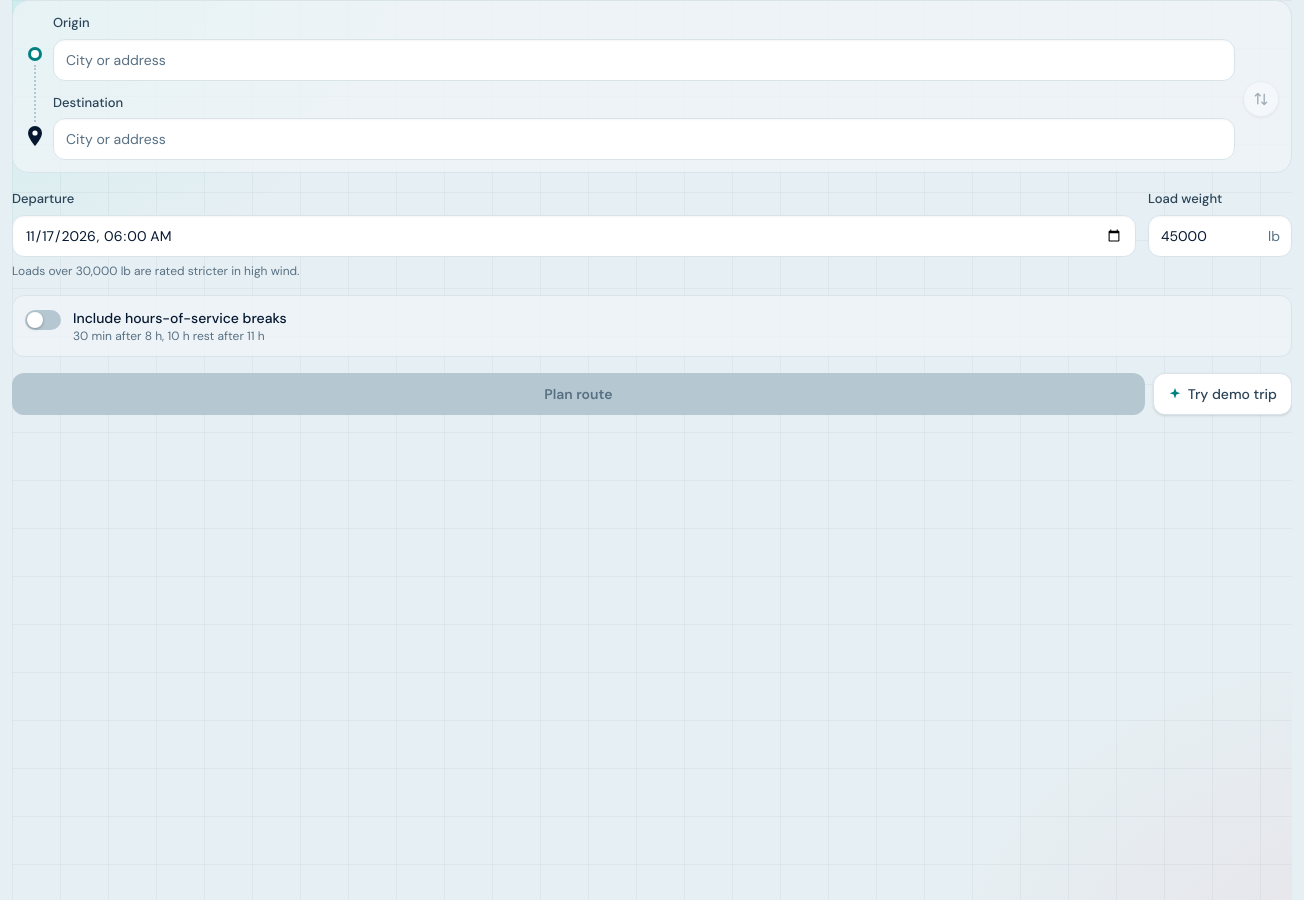
it: shows "No matches" when geocoding finds nothing
Type "Atlantis" into the dropdown labelled "Origin" at (644, 60), box [53,38,1235,80]
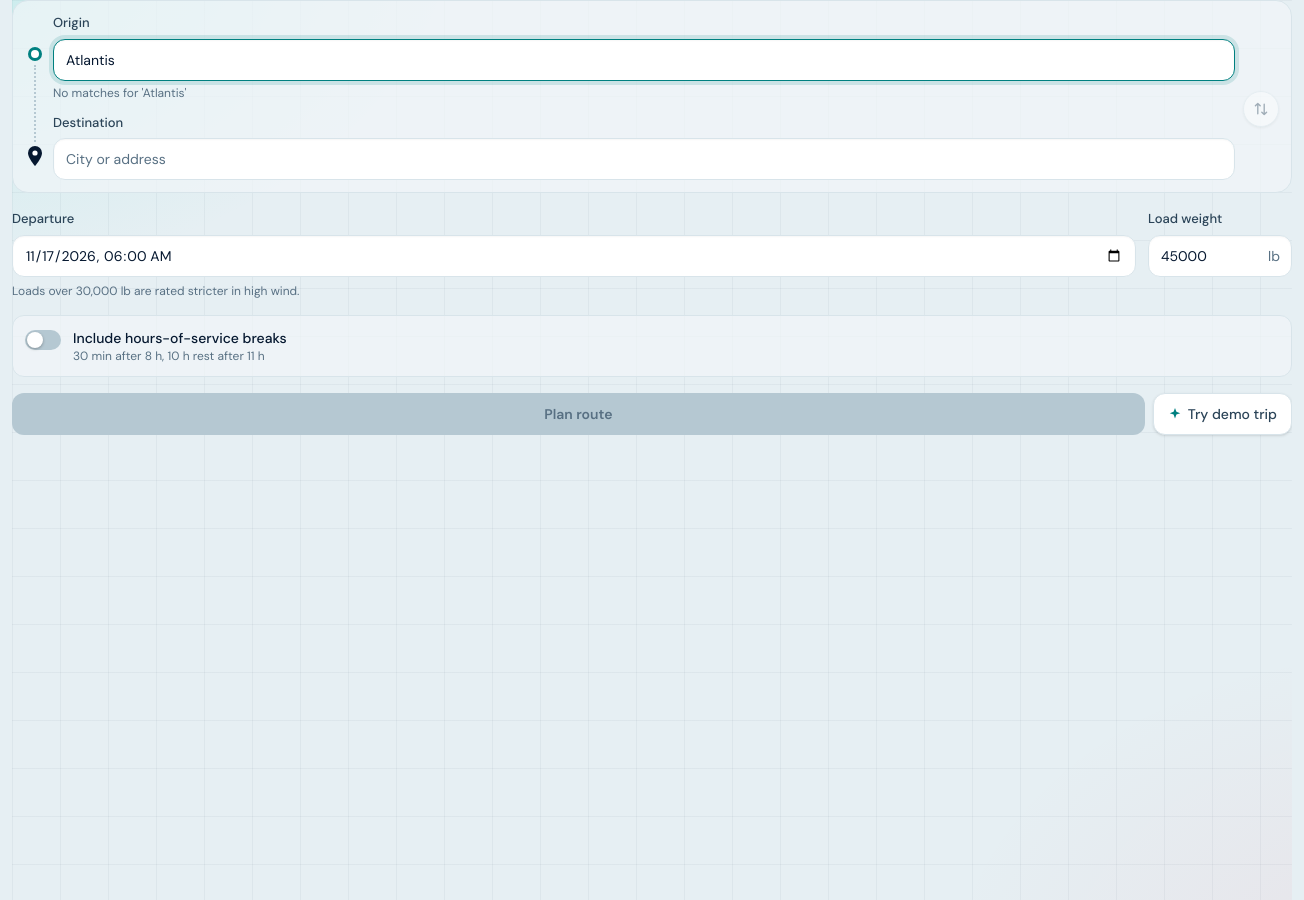
Check: the text "No matches for 'Atlantis'" is shown, box [53,84,186,100]
